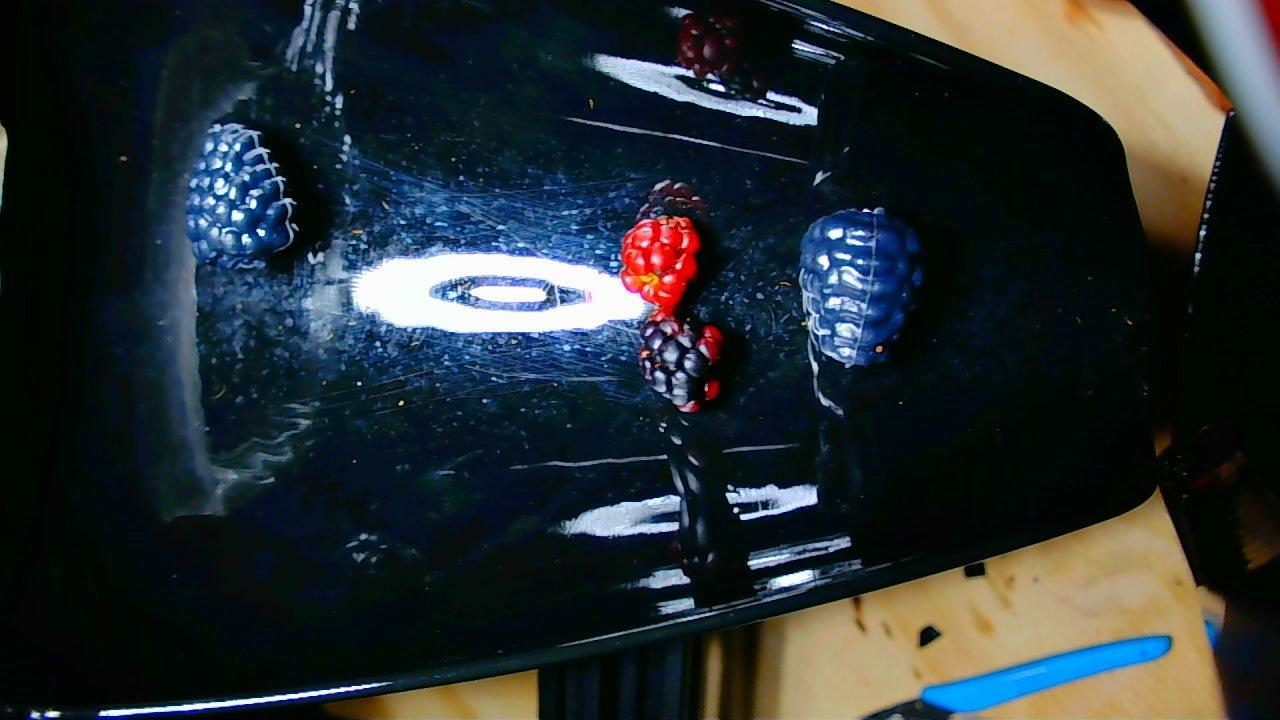berry: (798, 208, 921, 367), (185, 123, 297, 268), (639, 311, 723, 412), (620, 216, 700, 309)
